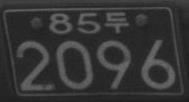0: (55, 39, 93, 91)
2: (15, 39, 55, 92)
5: (77, 11, 100, 35)
6: (140, 38, 176, 90)
8: (49, 11, 72, 34)
9: (95, 39, 132, 89)
두: (104, 11, 129, 33)
